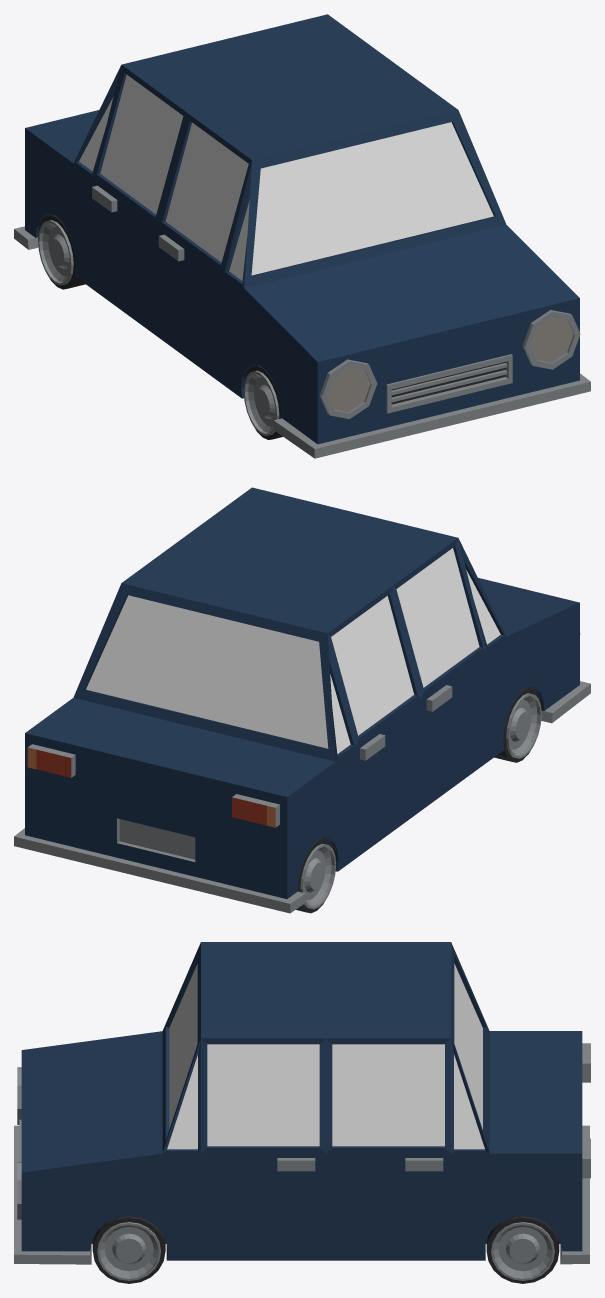
File: SM_car_01.gltf
3 views of the same model, one above another, from view 1: azimuth 30°, elevation 25°; view 2: azimuth 150°, elevation 25°; view 3: azimuth 270°, elevation 25° (orthographic). The views are drawn at different scales.
Visible parts, largest first — view 1: SM_car_01, wheel_04, wheel_03; view 2: SM_car_01, wheel_03, wheel_04; view 3: SM_car_01, wheel_01, wheel_02.
Boxes of the visible parts, bbox=[...] form: SM_car_01: bbox=[14, 14, 590, 458]; wheel_04: bbox=[38, 214, 85, 289]; wheel_03: bbox=[243, 365, 282, 439]; SM_car_01: bbox=[14, 487, 590, 913]; wheel_03: bbox=[494, 688, 541, 762]; wheel_04: bbox=[296, 838, 335, 913]; SM_car_01: bbox=[14, 942, 590, 1264]; wheel_01: bbox=[92, 1216, 165, 1283]; wheel_02: bbox=[486, 1216, 559, 1283].
Size of the model in its own units: 0.8508 by 0.7085 by 1.59.
